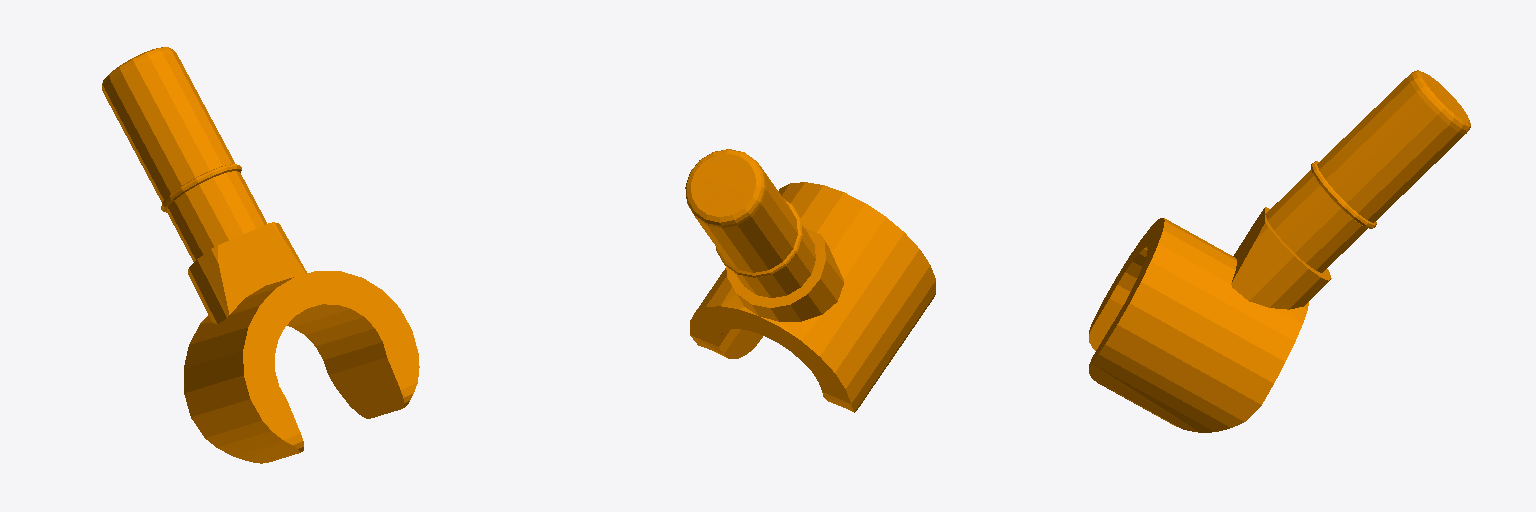
Rendered from left_hand.obj.
3 renders of one model, left to right at view 1: azimuth 30°, elevation 25°; view 2: azimuth 150°, elevation 25°; view 3: azimuth 270°, elevation 25°, orthographic.
Visible parts, largest first — view 1: Part.1; view 2: Part.1; view 3: Part.1.
Boxes of the visible parts, x1,y1,x2,y2 form: Part.1: [102, 47, 419, 463]; Part.1: [685, 149, 935, 412]; Part.1: [1089, 70, 1470, 432].
Bounding box in the file's own units: 5.32 × 9.54 × 10.08.